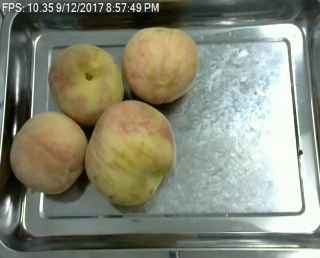Peach: (84, 98, 175, 206), (10, 109, 87, 195), (47, 42, 123, 125), (124, 25, 200, 105)
